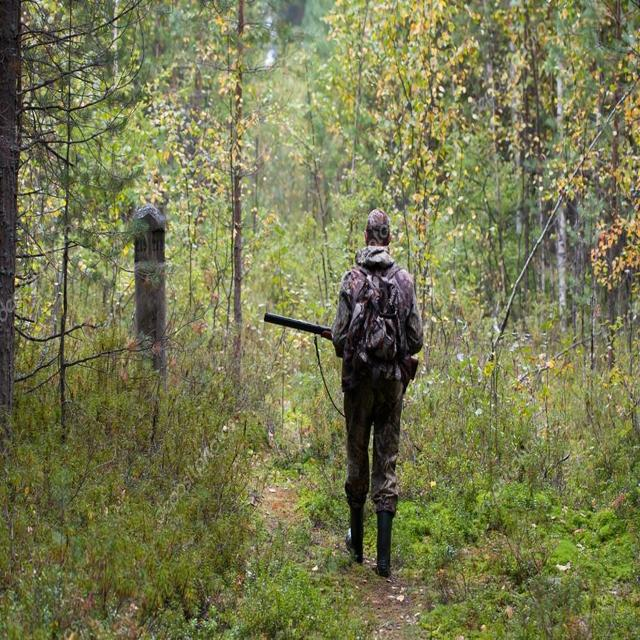backpack: (326, 251, 430, 411)
gun: (253, 296, 435, 396)
poacher: (288, 183, 459, 595)
